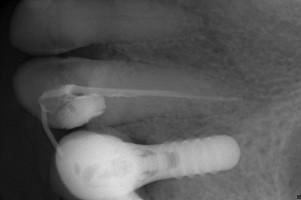Furcation Involvement: (179, 5, 210, 33)
